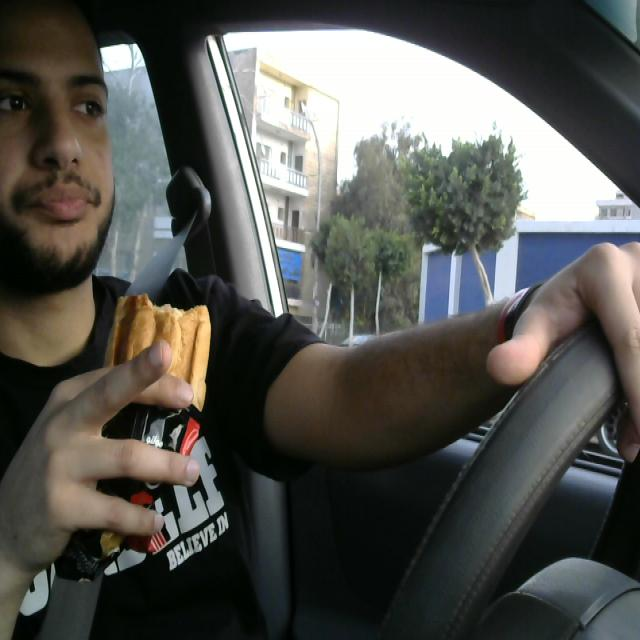eating: (98, 286, 213, 540)
